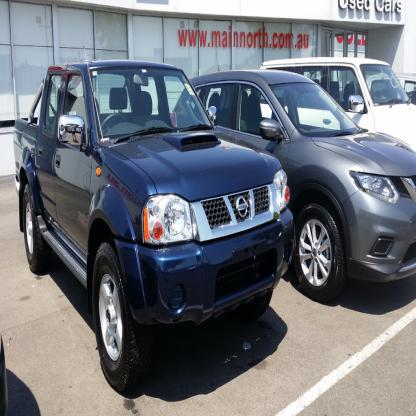Car: (14, 61, 294, 397), (170, 71, 415, 305), (260, 58, 416, 153)
Truck: (13, 45, 295, 393)
